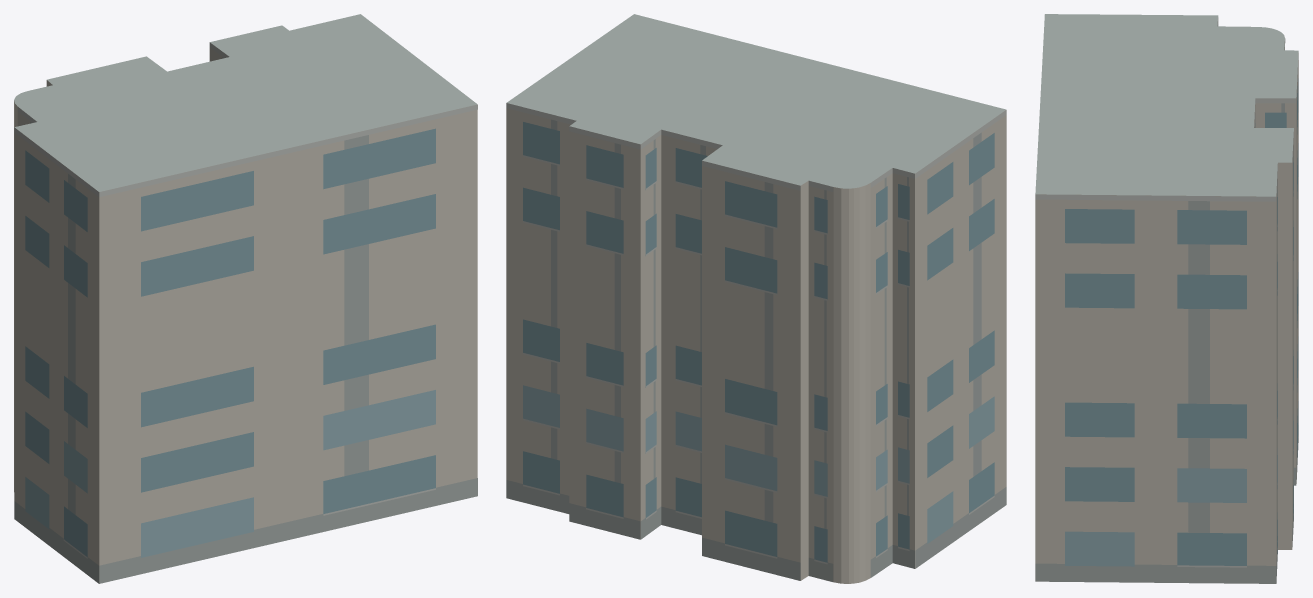
Rendered from survey-upis-32820451.glb.
3 renders of one model, left to right at view 1: azimuth 30°, elevation 25°; view 2: azimuth 150°, elevation 25°; view 3: azimuth 270°, elevation 25°, orthographic. The views are drawn at different scales.
Parts seen in each view (by area): view 1: survey-upis-32820451.tmp; view 2: survey-upis-32820451.tmp; view 3: survey-upis-32820451.tmp.
Boxes of the visible parts, x1=… form: survey-upis-32820451.tmp: x1=14, y1=14, x2=477, y2=583; survey-upis-32820451.tmp: x1=506, y1=14, x2=1006, y2=583; survey-upis-32820451.tmp: x1=1035, y1=14, x2=1298, y2=583.
Size of the model in its own units: 18.52 by 18.3 by 11.28.
